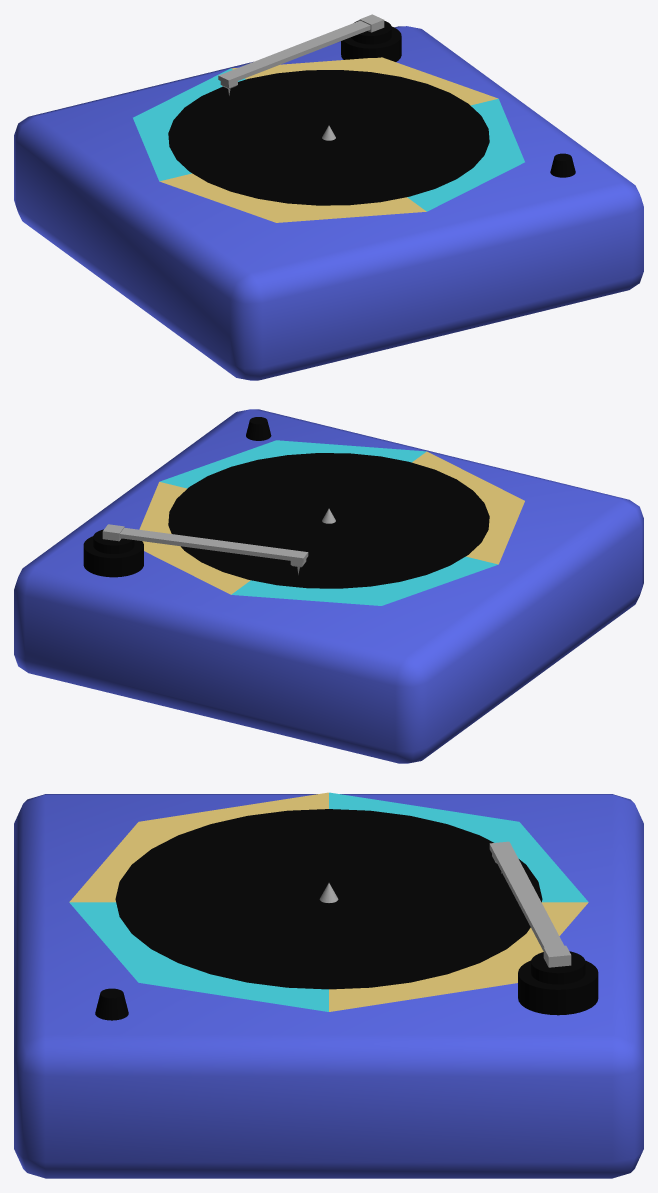
3 renders of one model, top to bottom at view 1: azimuth 30°, elevation 25°; view 2: azimuth 150°, elevation 25°; view 3: azimuth 270°, elevation 25°, orthographic. The views are drawn at different scales.
Parts seen in each view (by area): view 1: case, case.002; view 2: case, case.002; view 3: case, case.002.
Part boxes in pixels (left/top/right/bottom): case: left=14, top=20, right=643, bottom=380; case.002: left=218, top=14, right=384, bottom=95; case: left=14, top=409, right=643, bottom=763; case.002: left=102, top=524, right=308, bottom=574; case: left=14, top=792, right=643, bottom=1178; case.002: left=489, top=841, right=571, bottom=967.
Size of the model in its own units: 1 by 1 by 0.3323.
